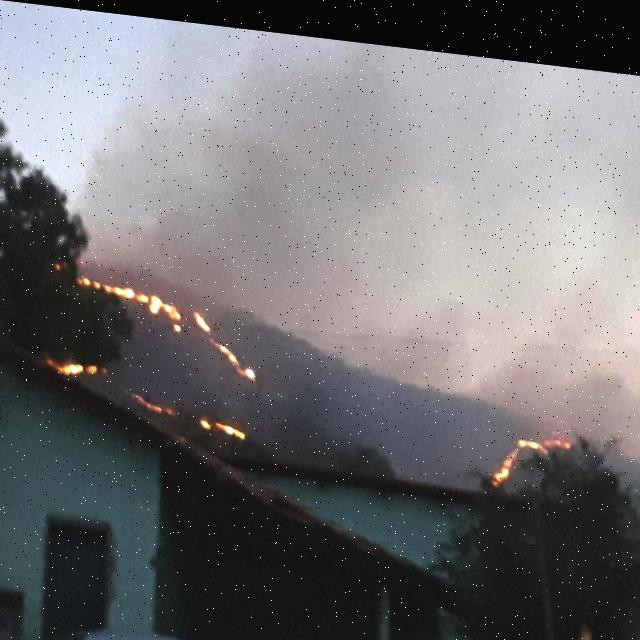Fire: (75, 258, 262, 383), (126, 378, 249, 446), (486, 411, 577, 491), (40, 338, 122, 392)
